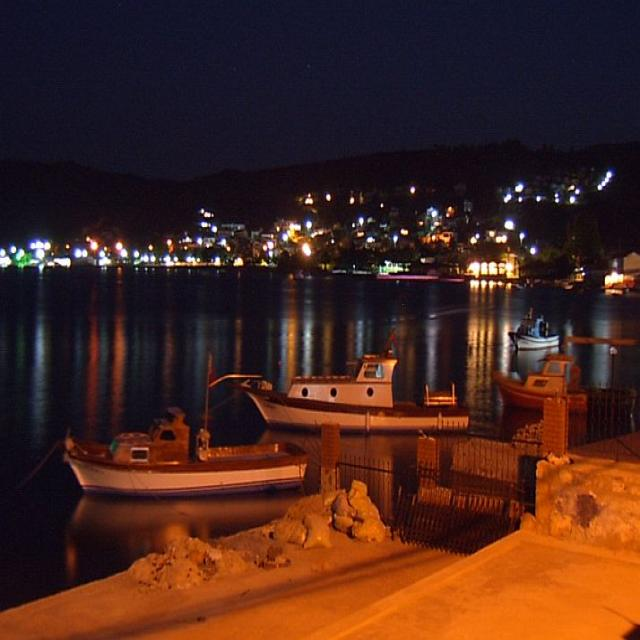Boat: (67, 397, 335, 511), (226, 334, 474, 419), (498, 335, 598, 434), (503, 305, 588, 365)
